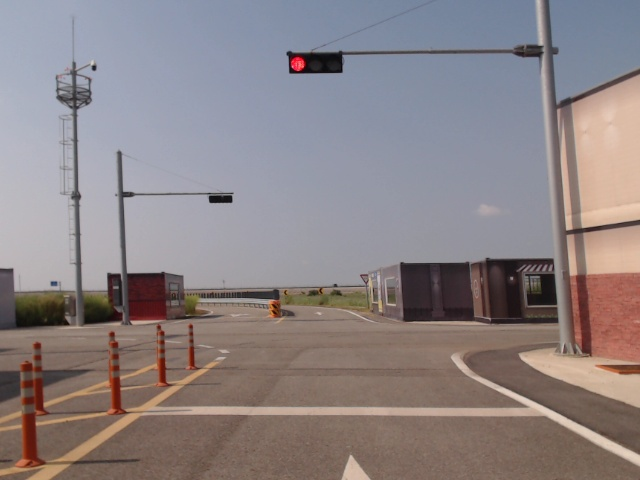red_3: (289, 53, 344, 74)
